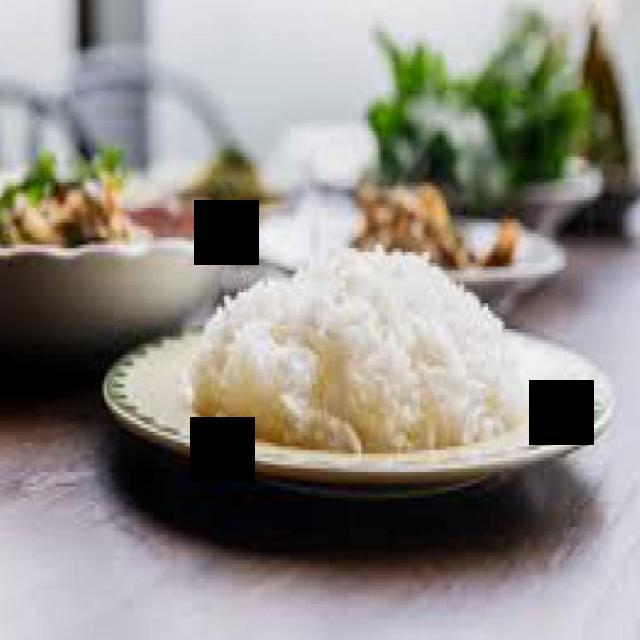rice: (189, 244, 527, 454)
